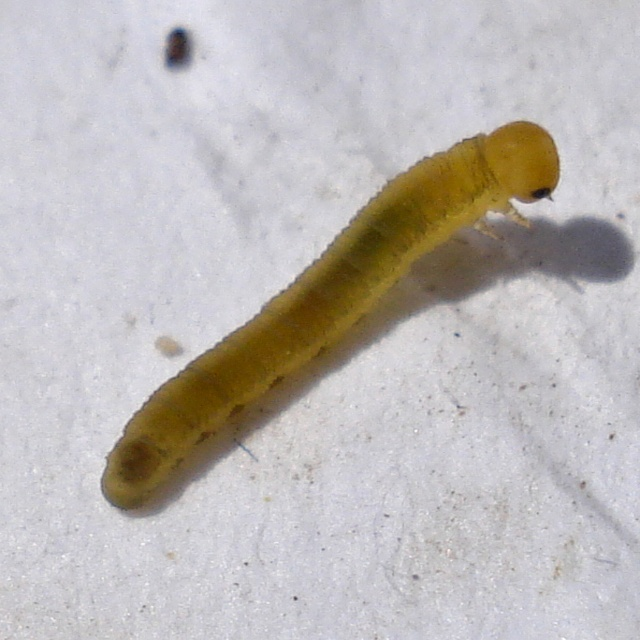Caterpillar: (99, 119, 557, 509)
